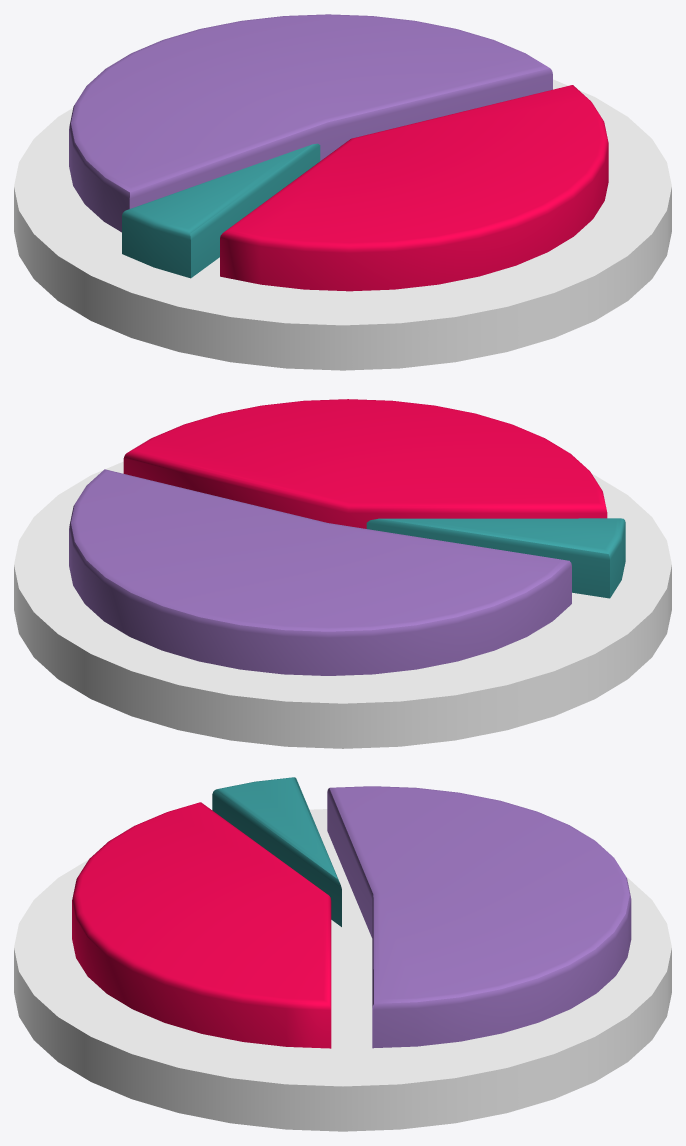
Rendered from Pie_Chart_2.gltf.
The picture shows the model from 3 angles, top to bottom: view 1: azimuth 30°, elevation 25°; view 2: azimuth 150°, elevation 25°; view 3: azimuth 270°, elevation 25°; orthographic projection.
Visible parts, largest first — view 1: Cylinder001, Cylinder002, Object002, Object001; view 2: Cylinder002, Cylinder001, Object002, Object001; view 3: Cylinder001, Cylinder002, Object002, Object001.
Part boxes in pixels (box(x1,y1,x2,y2)): Cylinder001: box(14, 79, 671, 370); Cylinder002: box(69, 14, 552, 232); Object002: box(220, 85, 608, 291); Object001: box(122, 143, 320, 278); Cylinder002: box(69, 469, 571, 675); Cylinder001: box(14, 461, 671, 748); Object002: box(123, 399, 607, 528); Object001: box(366, 518, 625, 598); Cylinder001: box(14, 809, 671, 1131); Cylinder002: box(327, 786, 631, 1048); Object002: box(72, 802, 331, 1048); Object001: box(212, 777, 341, 926).
Size of the model in its own units: 130 by 21.6 by 130.
